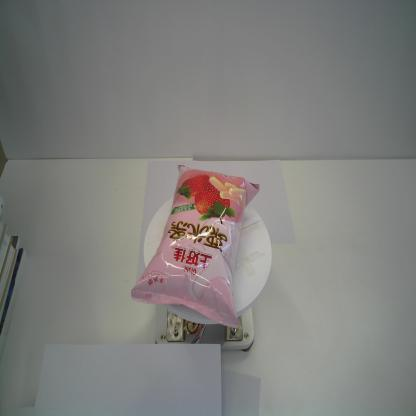Puffed Food: (130, 162, 260, 329)
